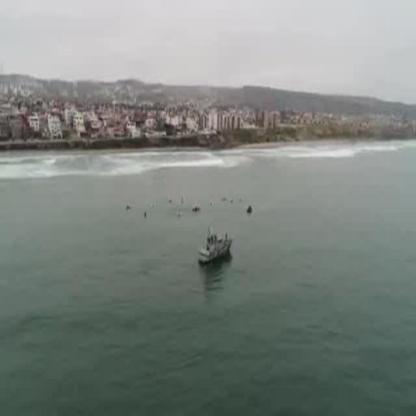Boat: (197, 228, 234, 270)
